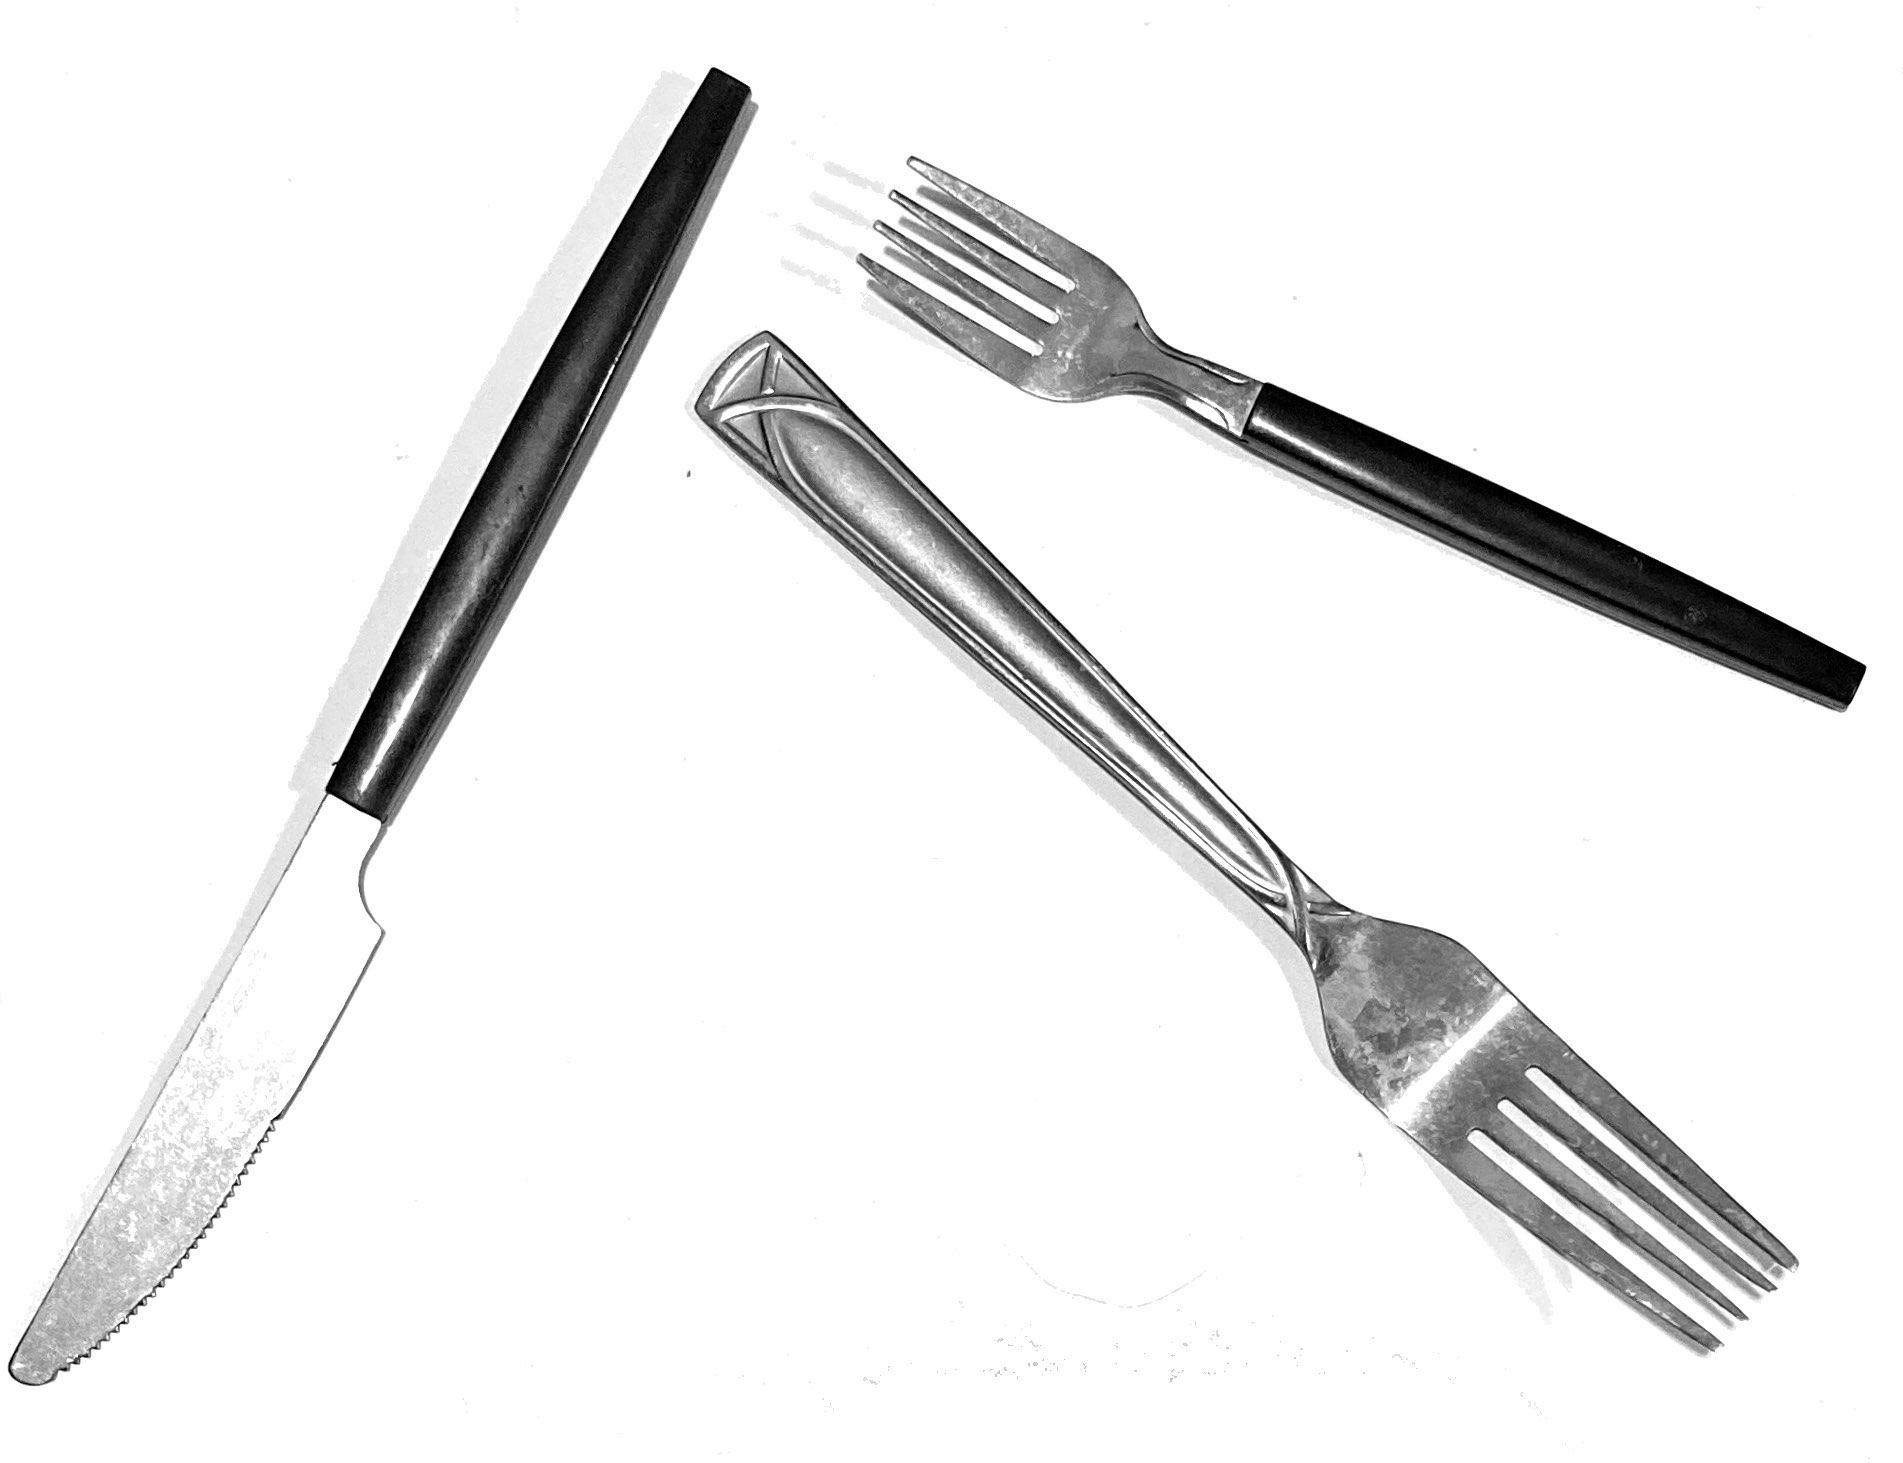Fork: (656, 324, 1818, 1386), (842, 121, 1872, 731)
Knife: (2, 66, 792, 1431)
